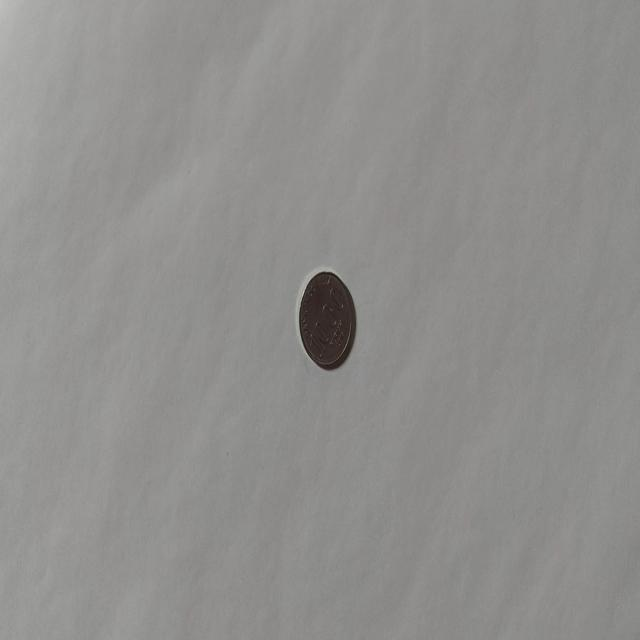seribu rupiah koin: (296, 268, 354, 370)
